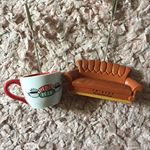cups: (1, 70, 65, 109)
